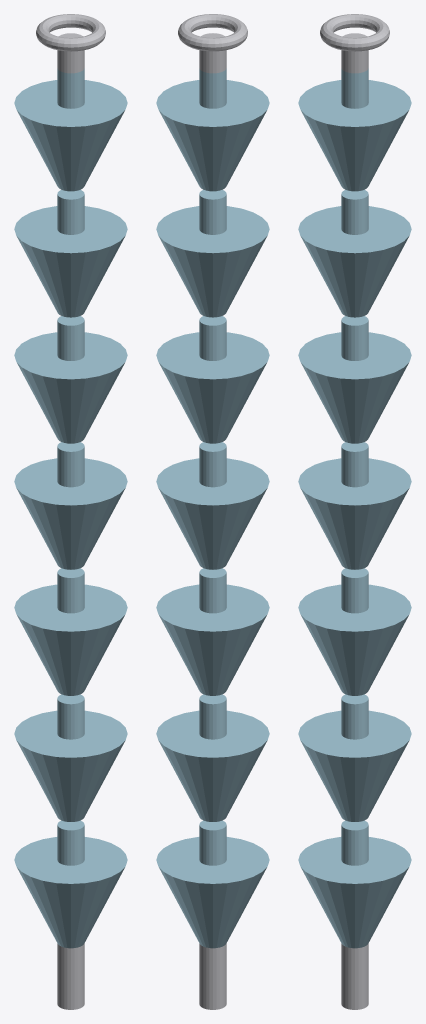
Rendered from Cadena_951mm.fbx.
3 renders of one model, left to right at view 1: azimuth 90°, elevation 25°; view 2: azimuth 150°, elevation 25°; view 3: azimuth 270°, elevation 25°, orthographic.
Visible parts, largest first — view 1: Cadena_951mm; view 2: Cadena_951mm; view 3: Cadena_951mm.
Part boxes in pixels (x1,y1,x2,y2): Cadena_951mm: (14, 14, 127, 1009); Cadena_951mm: (156, 14, 269, 1009); Cadena_951mm: (298, 14, 411, 1009).
Size of the model in its own units: 10 by 95.1 by 10.
